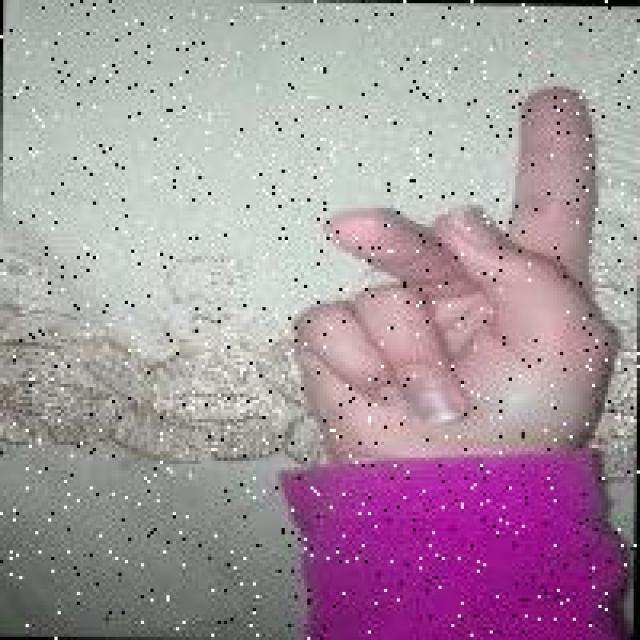K: (264, 65, 638, 452)
